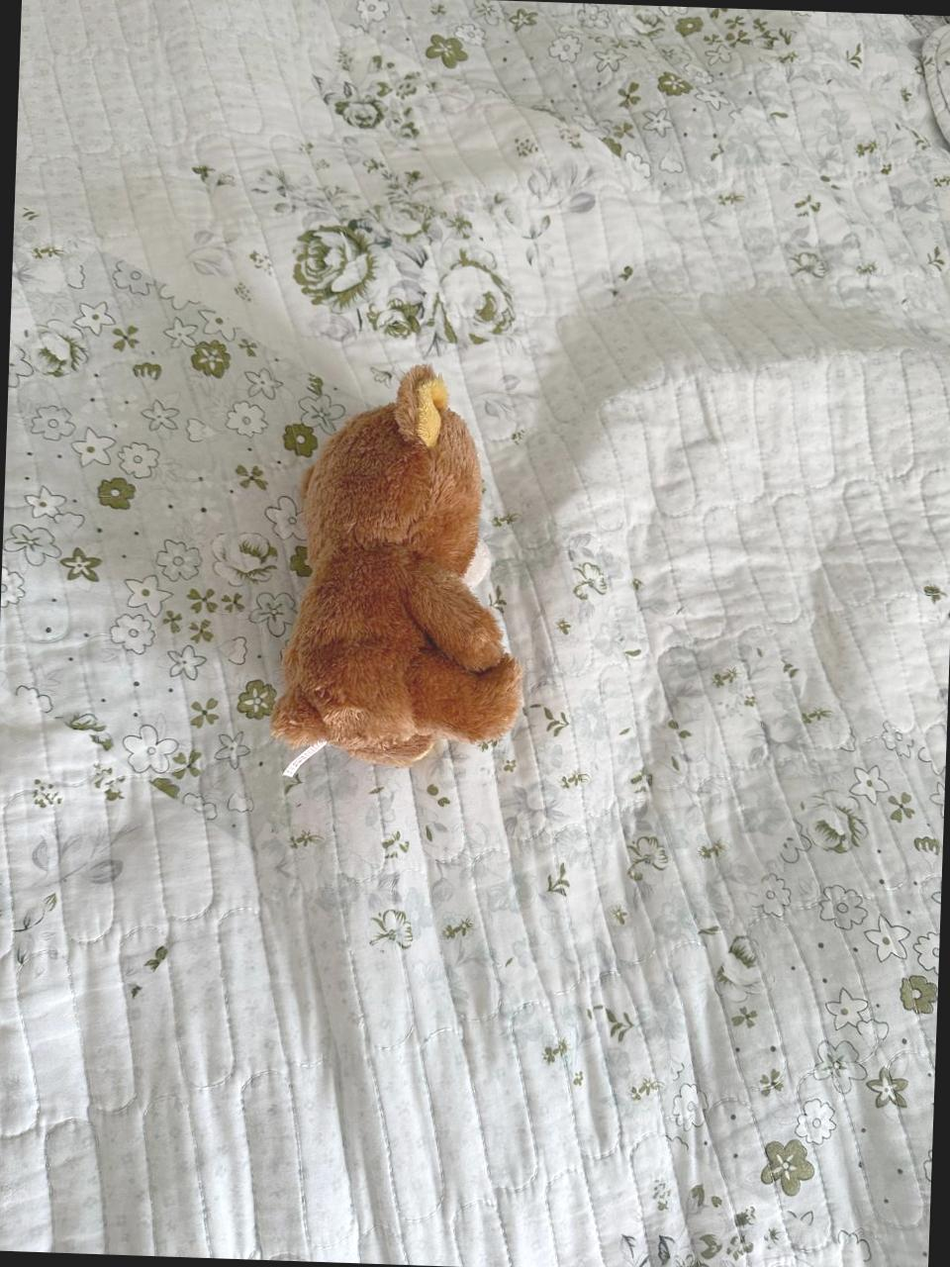peluche_sebastian: (280, 357, 544, 779)
